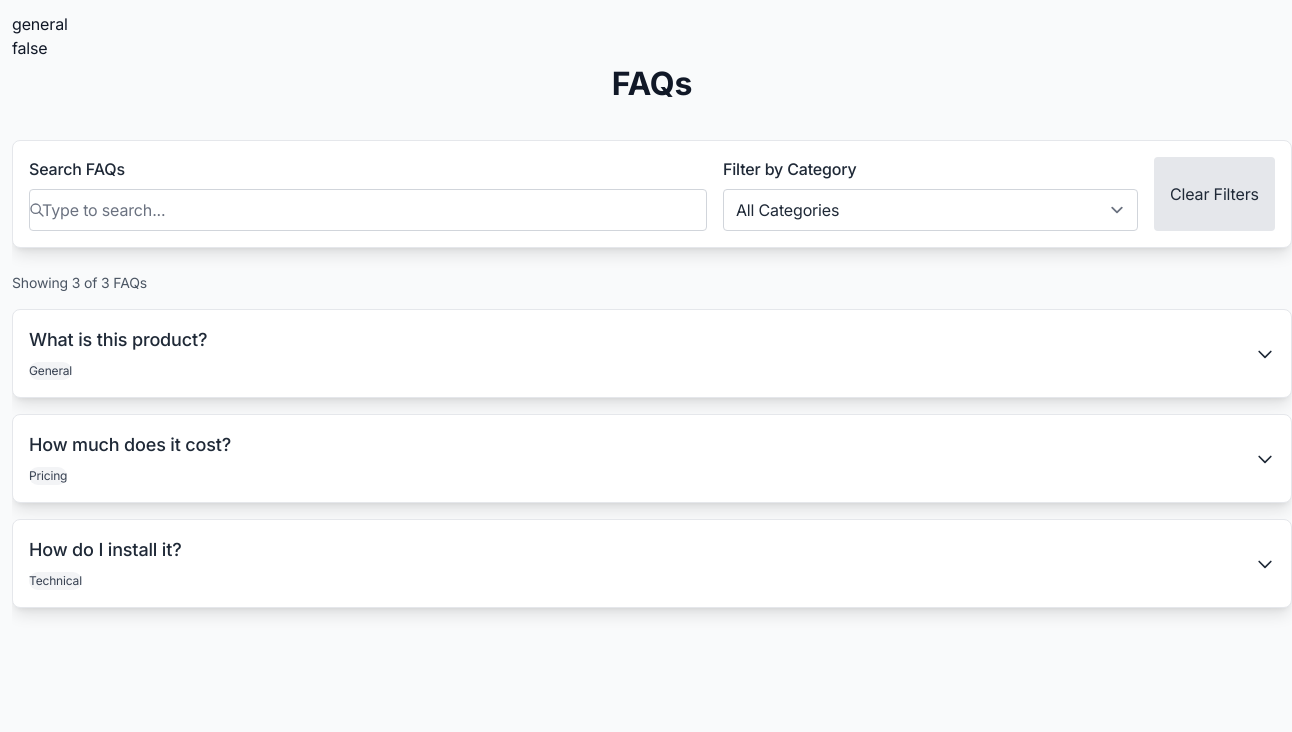
Interactive Components › ExpandableFAQ › expands FAQ when clicked
Check: the text "This is a fantastic product that solves many problems." is not shown
Click on the first FAQ
What coordinates should you click on to do the following:
click the heading "What is this product?"
I would click on:
 (118, 340)
Its box is [29,326,207,353].
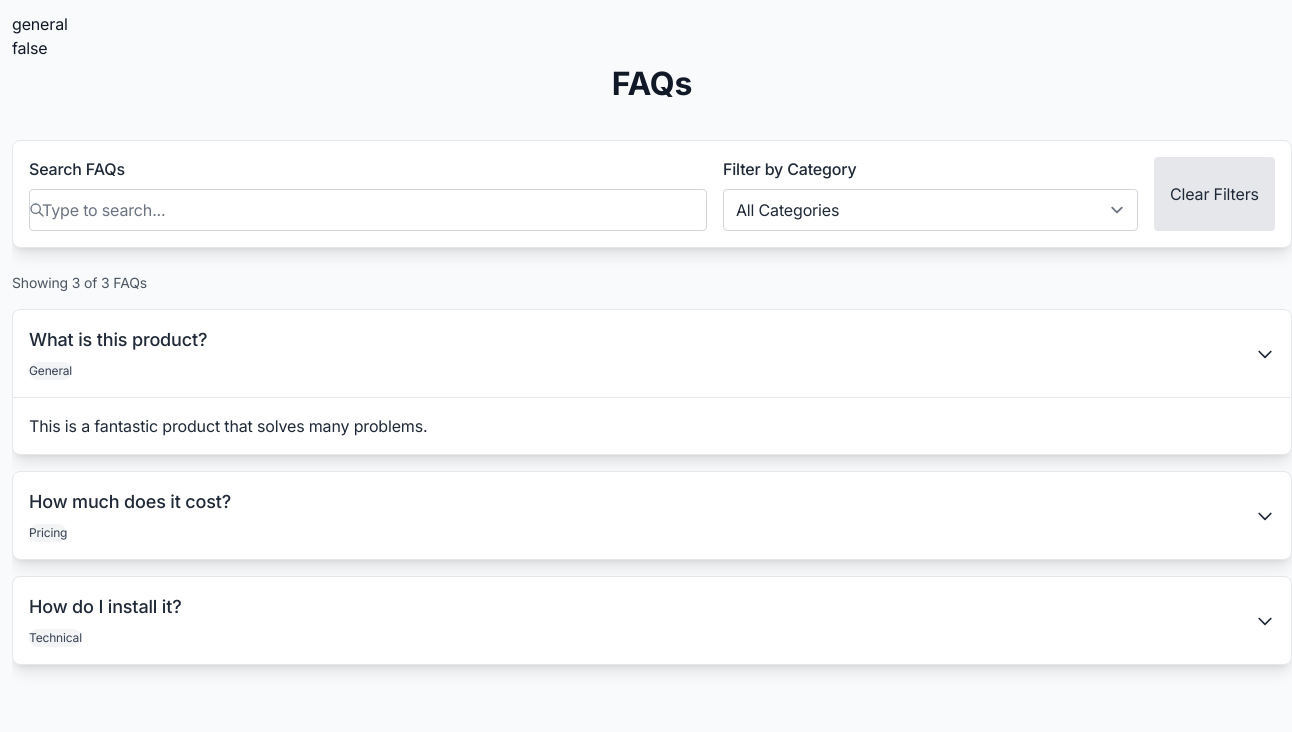
Check: the text "This is a fantastic product that solves many problems." is shown, box [13,397,1291,454]
